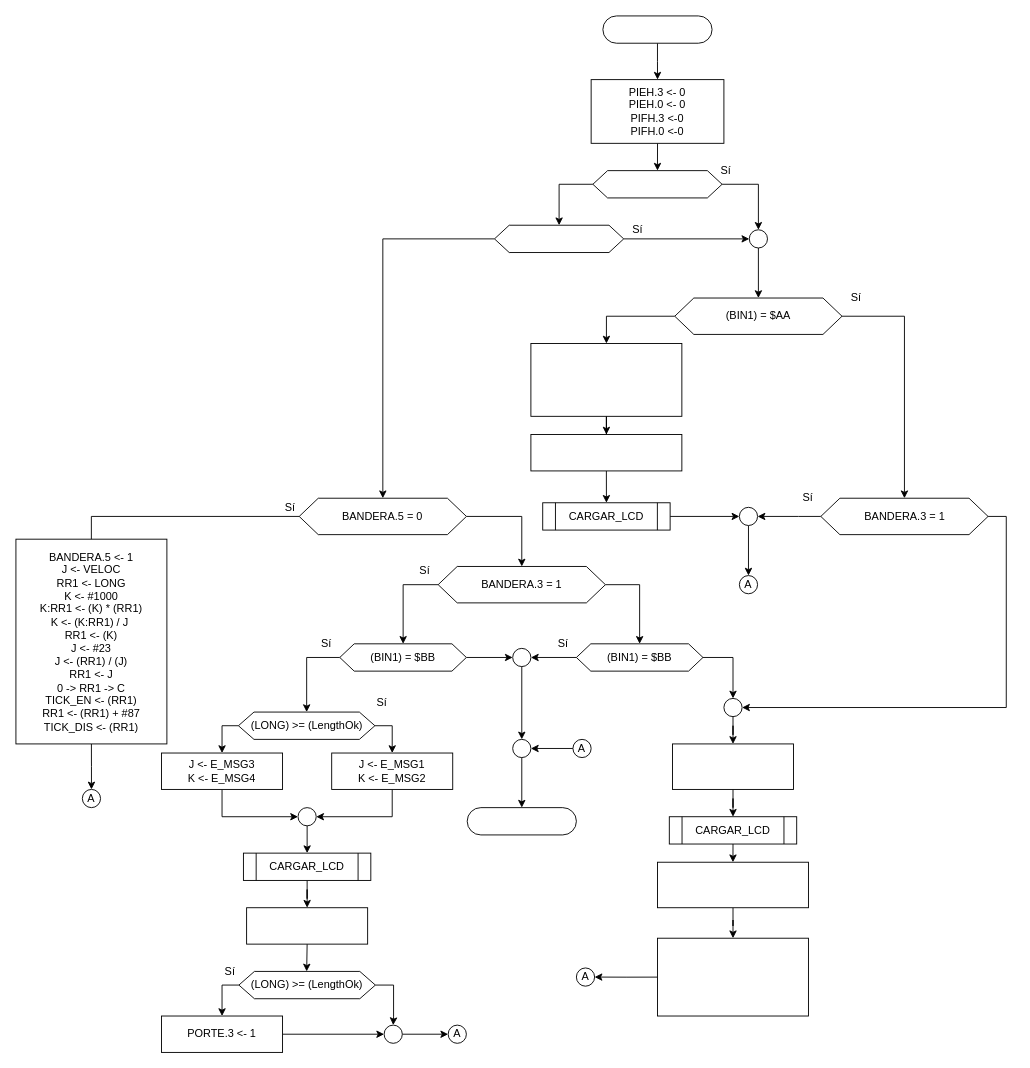
Some shapes in this 1030 by 1068 pixel diagram are drawn without their labels. The box of each missing label's shape, as (x1, y1, x2, y2) in pixels:
BIN1 <- $BB BIN2 <- $BB: (657, 861, 808, 908)
BIN1 <- (LONG) BIN2 <- (VELOC): (246, 907, 368, 944)
J <- (A_MSG1) K <- (A_MSG2): (530, 434, 682, 471)
J <- I_MSG1 K <- I_MSG2: (672, 743, 794, 789)
PANT_CTRL: (602, 15, 712, 43)
PIEH.3 <- 1 PIEH.0 <- 1 PIFH.3 <-1 PIFH.0 <-1 CAL_TICKS <- 0: (657, 937, 808, 1016)
RETORNAR: (466, 807, 576, 835)
TICK_EN <- 1 TICK_DIS <- 88 BIN1 <- $AA BIN2 <- $AA BANDERA.3 <- 1: (530, 343, 682, 416)
VELOC < 10: (494, 224, 624, 253)
VELOC > 50: (592, 170, 722, 198)
